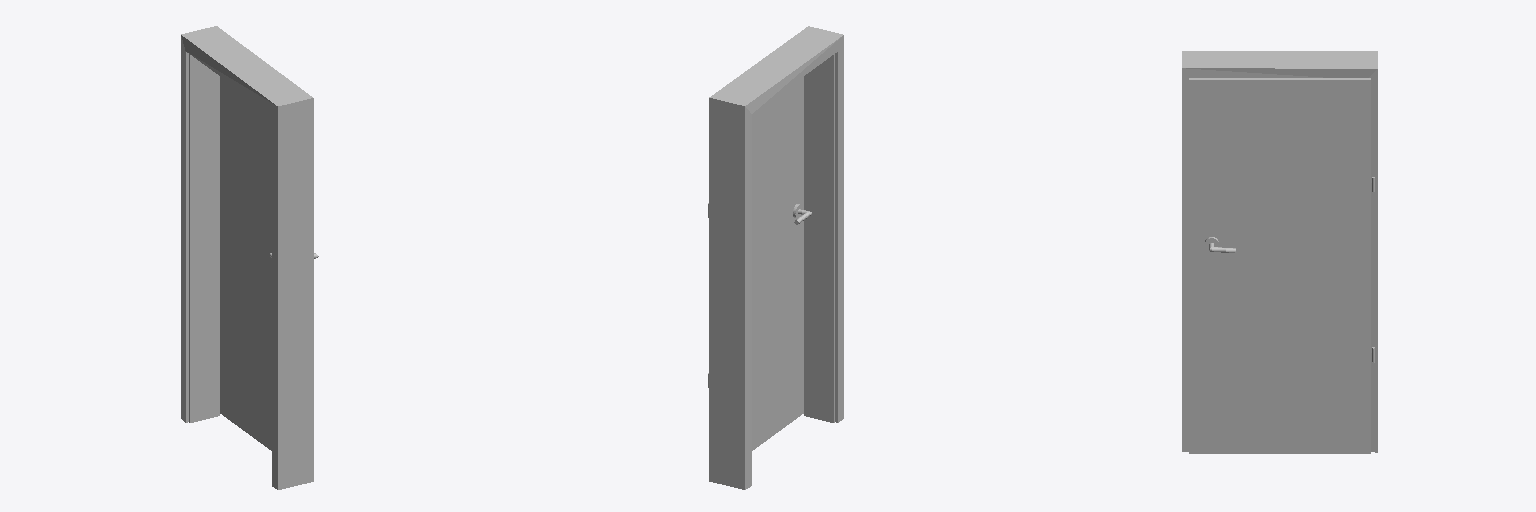
Rendered from door16.obj.
3 views of the same model, side by side, from view 1: azimuth 30°, elevation 25°; view 2: azimuth 150°, elevation 25°; view 3: azimuth 270°, elevation 25° (orthographic).
Parts seen in each view (by area): view 1: Cylinder.005, Cylinder.001; view 2: Cylinder.005, Cylinder.001; view 3: Cylinder.001, Cylinder.005.
Part boxes in pixels (left/top/right/bottom): Cylinder.005: left=181, top=26, right=313, bottom=489; Cylinder.001: left=220, top=77, right=271, bottom=450; Cylinder.005: left=708, top=26, right=843, bottom=489; Cylinder.001: left=708, top=77, right=803, bottom=450; Cylinder.001: left=1189, top=78, right=1374, bottom=453; Cylinder.005: left=1182, top=51, right=1377, bottom=452.
Bounding box in the file's own units: 0.3039 × 2.05 × 0.95.